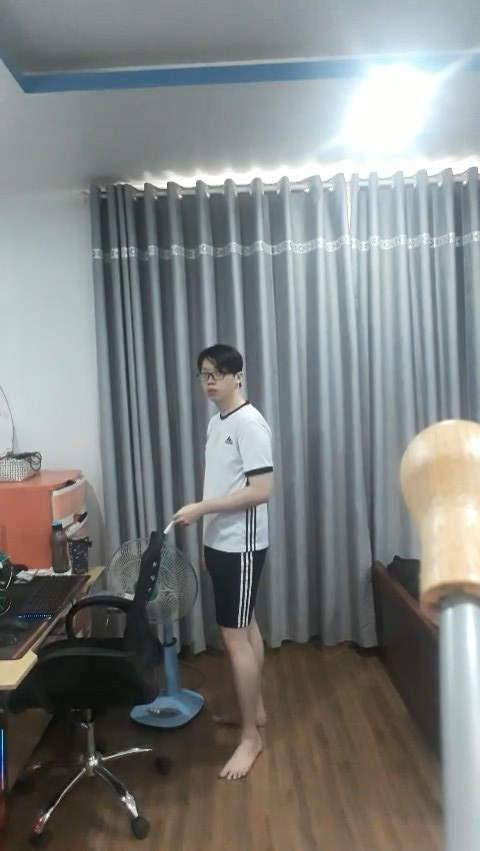cigarette: (162, 519, 175, 536)
person: (159, 338, 289, 799)
